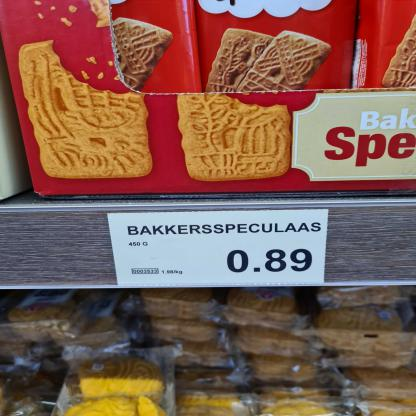prtg: (108, 210, 330, 288)
